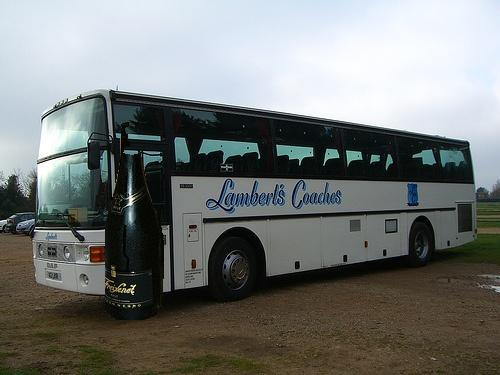tampered: (106, 123, 164, 320)
